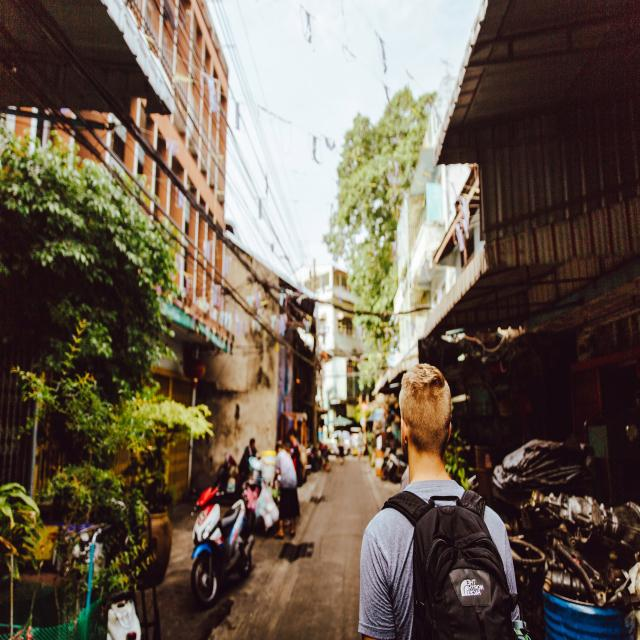adult: (359, 363, 520, 640)
